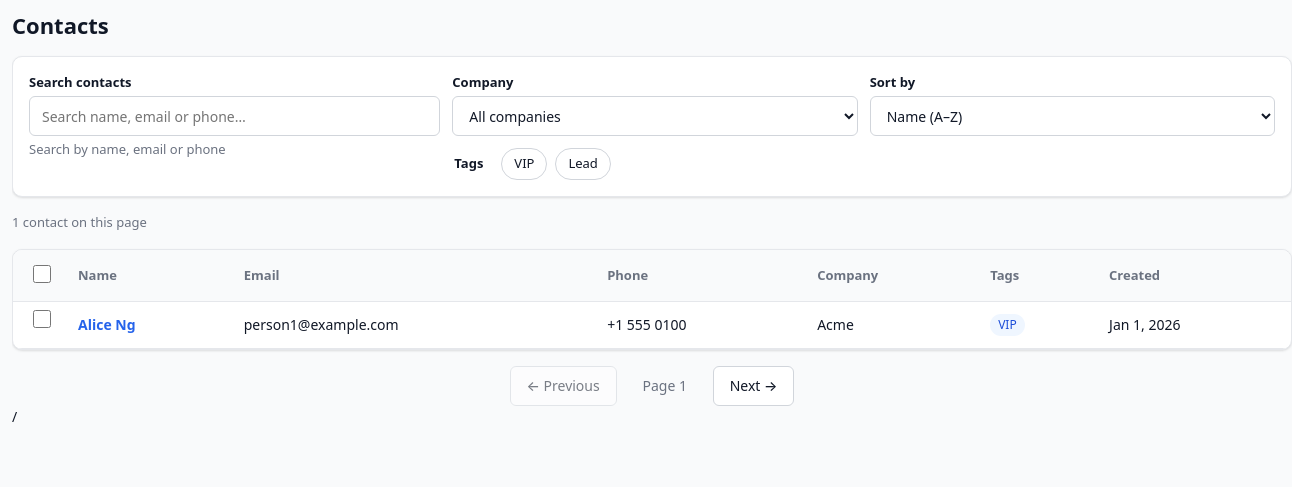
ContactsPage › pages forward and back with cursors, and a filter change returns to page 1
The width and height of the screenshot is (1292, 487).
Expected: the link "Alice Ng" is shown, [78,315,136,334]
Expected: the text "Page 1" is shown, [642,376,687,395]
Click the button "Next →" at x=754, y=386, box [713,366,794,406]
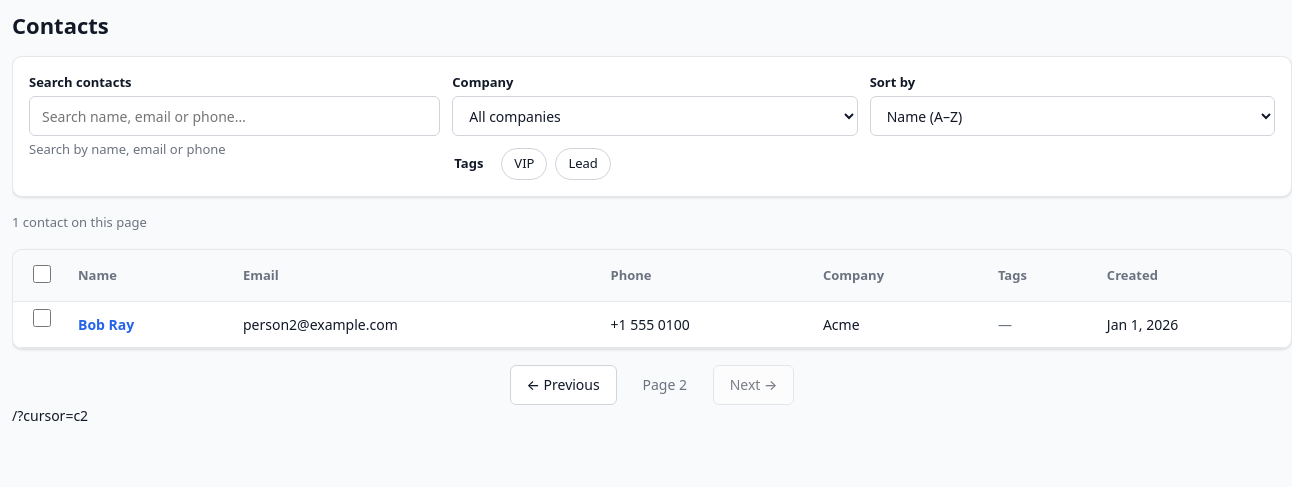
Expected: the link "Bob Ray" is shown, [78,314,134,334]
Expected: the text with test id "location" shows "cursor=c2", [12,406,88,424]
Expected: the text "Page 2" is shown, [642,375,687,394]
Click the button "← Previous" at x=563, y=384, box [510,364,617,404]
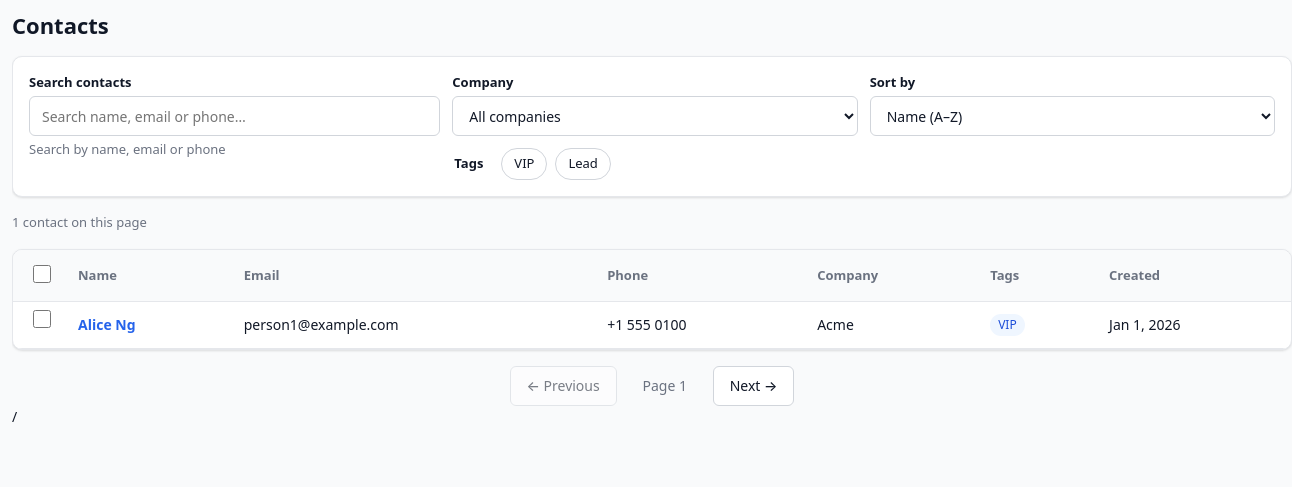
Expected: the link "Alice Ng" is shown, [78,315,136,334]
Go to page 2 again, then change a filter: cursor must be dropped.
Click the button "Next →" at x=754, y=386, box [713,366,794,406]
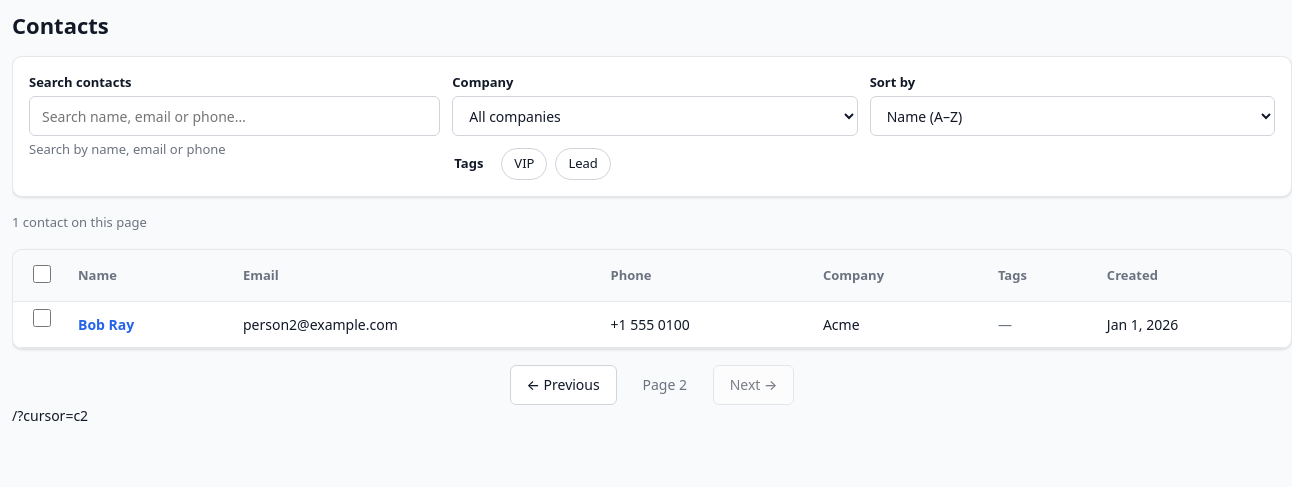
Expected: the link "Bob Ray" is shown, [78,314,134,334]
Click the button "Lead" at x=583, y=164, box [555,148,611,180]
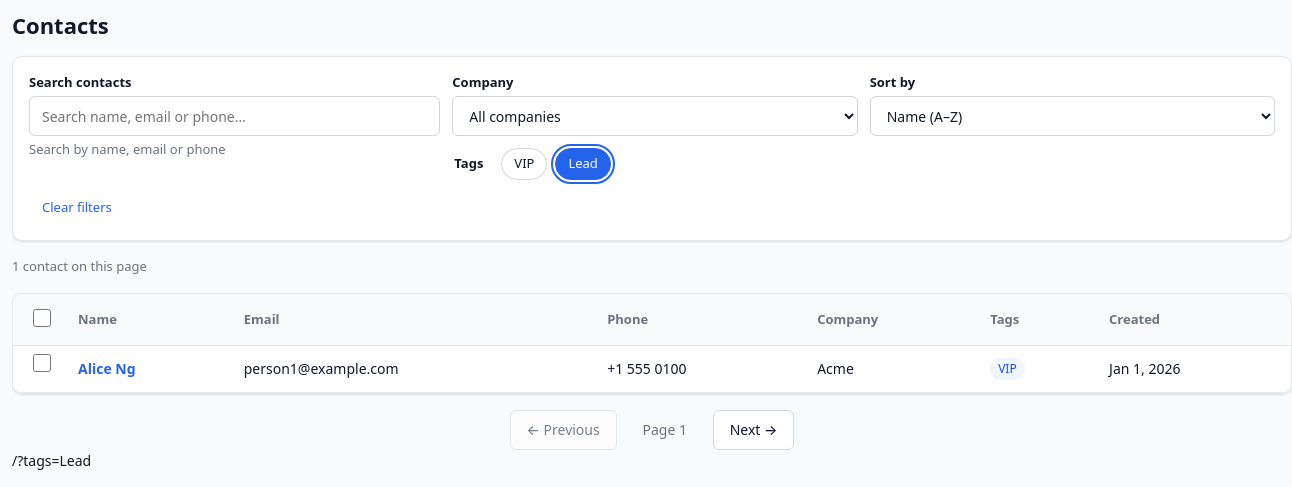
Expected: the text with test id "location" reads "/?tags=Lead", [12,450,91,470]
